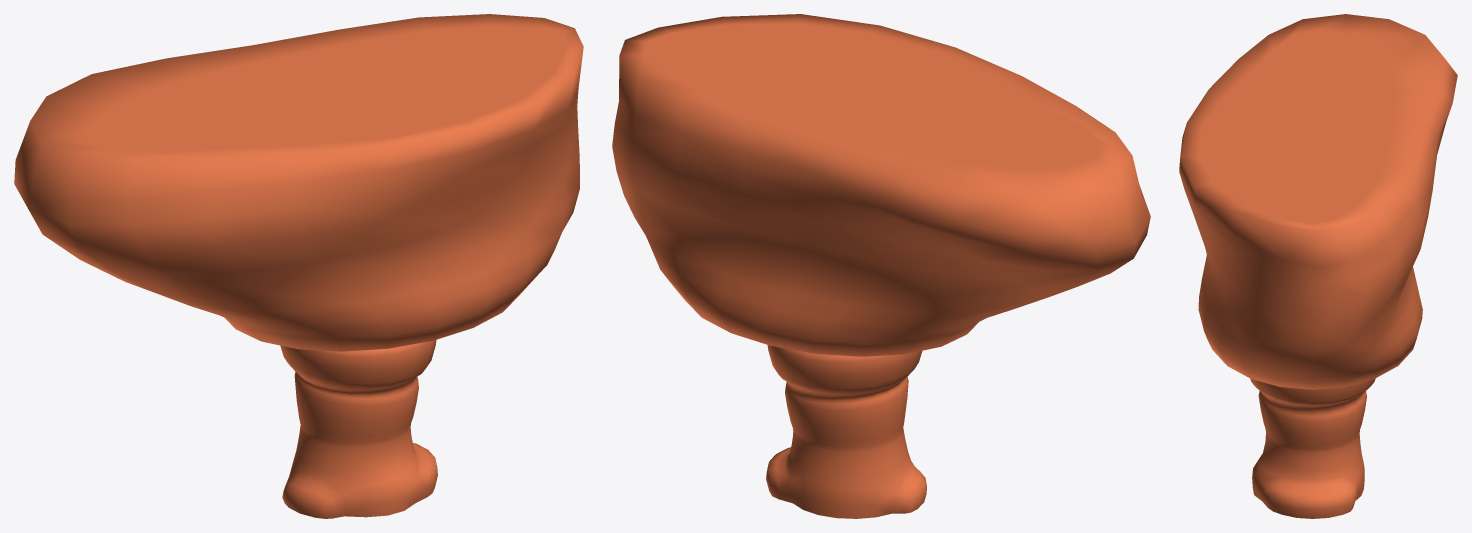
The model's file is RockyCool.fbx.
The picture shows the model from 3 angles, left to right: view 1: azimuth 30°, elevation 25°; view 2: azimuth 150°, elevation 25°; view 3: azimuth 270°, elevation 25°; orthographic projection. The views are drawn at different scales.
Visible parts, largest first — view 1: Rocky, Rocky.001; view 2: Rocky, Rocky.001; view 3: Rocky, Rocky.001.
Part boxes in pixels (left/top/right/bottom): Rocky: left=14, top=14, right=583, bottom=351; Rocky.001: left=280, top=340, right=437, bottom=518; Rocky: left=612, top=14, right=1150, bottom=356; Rocky.001: left=766, top=345, right=926, bottom=518; Rocky: left=1179, top=14, right=1457, bottom=389; Rocky.001: left=1250, top=378, right=1375, bottom=518.
Bounding box in the file's own units: 3.15 × 4.38 × 6.
